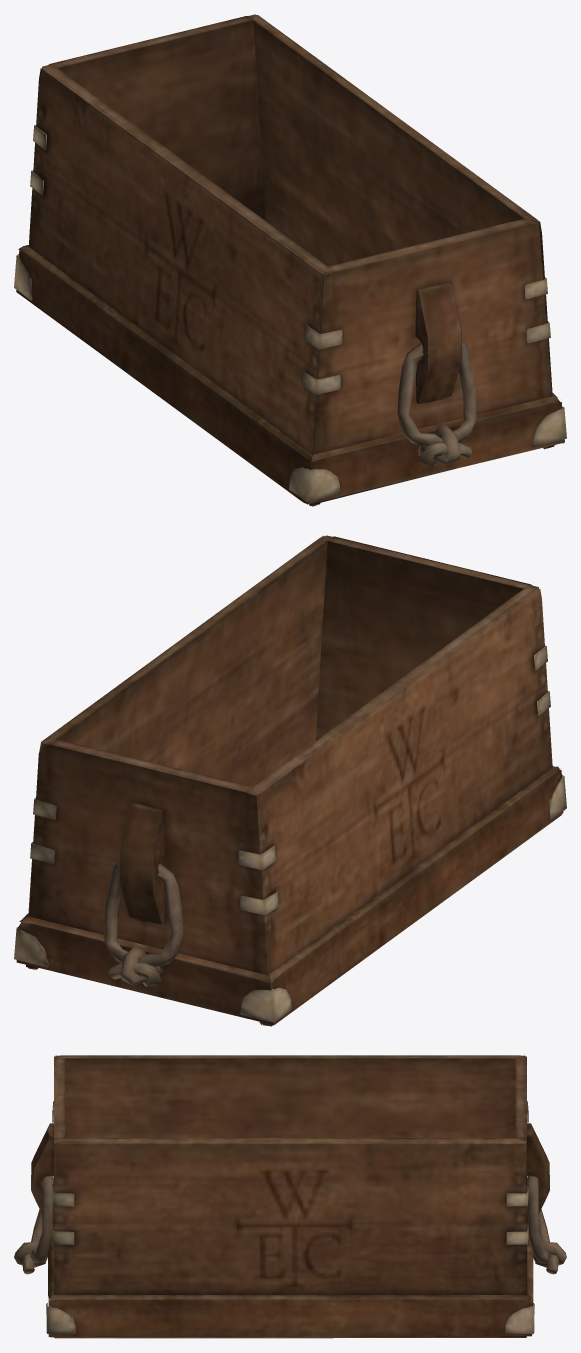
File: chandlery-crate.glb
3 renders of one model, top to bottom at view 1: azimuth 30°, elevation 25°; view 2: azimuth 150°, elevation 25°; view 3: azimuth 270°, elevation 25°, orthographic. The views are drawn at different scales.
Parts seen in each view (by area): view 1: wooden_crate_02_crate; view 2: wooden_crate_02_crate; view 3: wooden_crate_02_crate.
Part boxes in pixels (x1=…): wooden_crate_02_crate: x1=14, y1=14, x2=566, y2=506; wooden_crate_02_crate: x1=14, y1=535, x2=566, y2=1026; wooden_crate_02_crate: x1=14, y1=1055, x2=566, y2=1338.
Bounding box in the file's own units: 0.5291 × 0.4456 × 1.17.
Materials: 1 (1 with a texture image).
